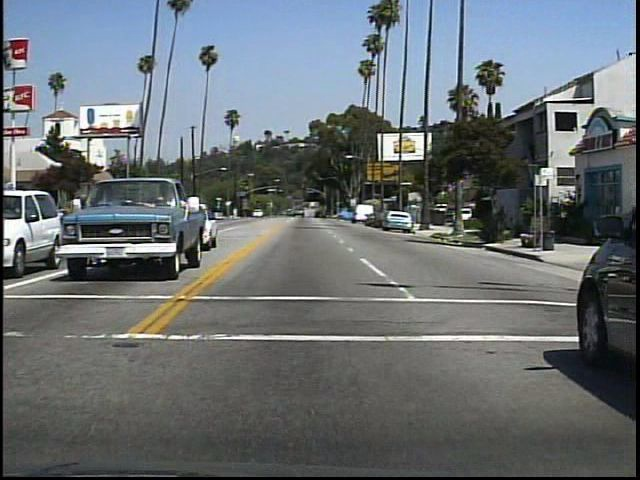person: (495, 199, 519, 248)
